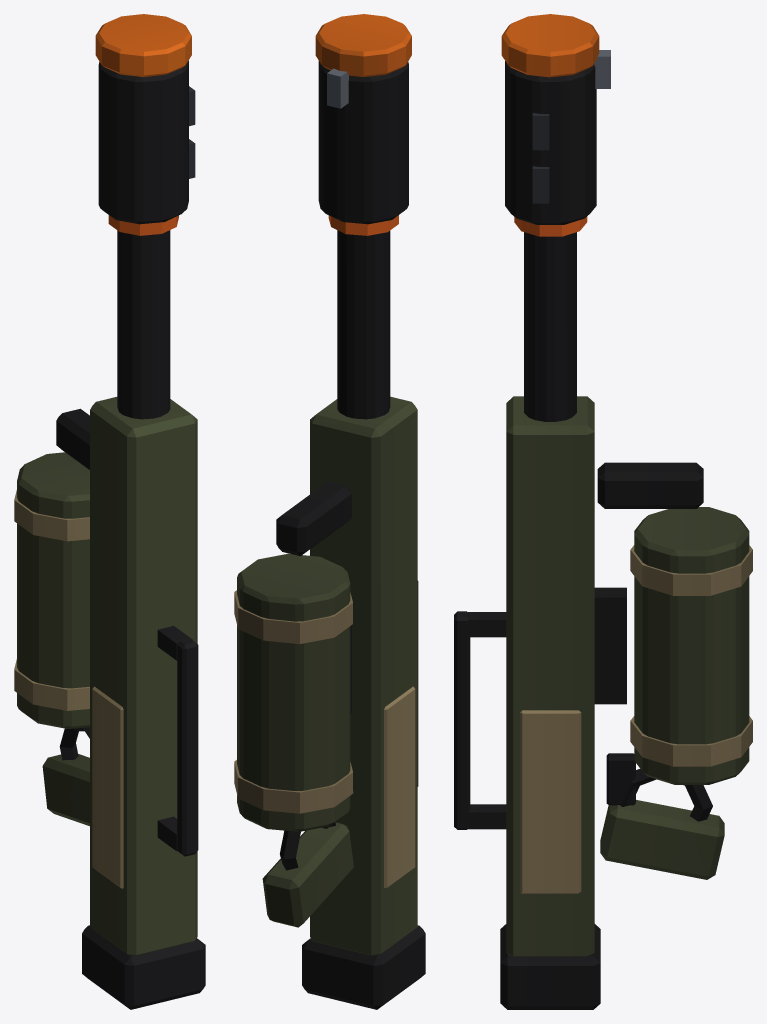
File: dragon.glb
The picture shows the model from 3 angles, left to right: view 1: azimuth 30°, elevation 25°; view 2: azimuth 150°, elevation 25°; view 3: azimuth 270°, elevation 25°; orthographic projection.
Parts seen in each view (by area): view 1: dragon; view 2: dragon; view 3: dragon.
Boxes of the visible parts, x1,y1,x2,y2 form: dragon: (14, 14, 205, 1009); dragon: (234, 14, 425, 1009); dragon: (454, 14, 752, 1009).
Size of the model in its own units: 0.0989 by 0.8992 by 0.2538.
